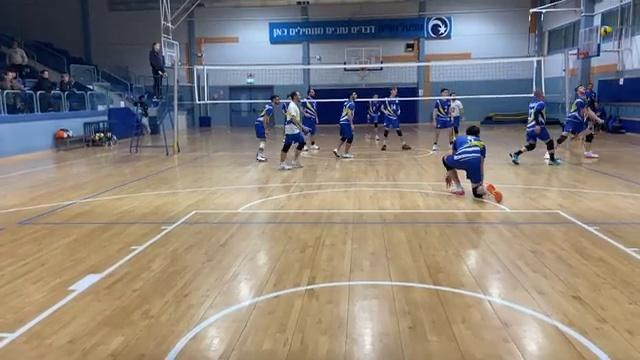ball: (597, 24, 615, 39)
